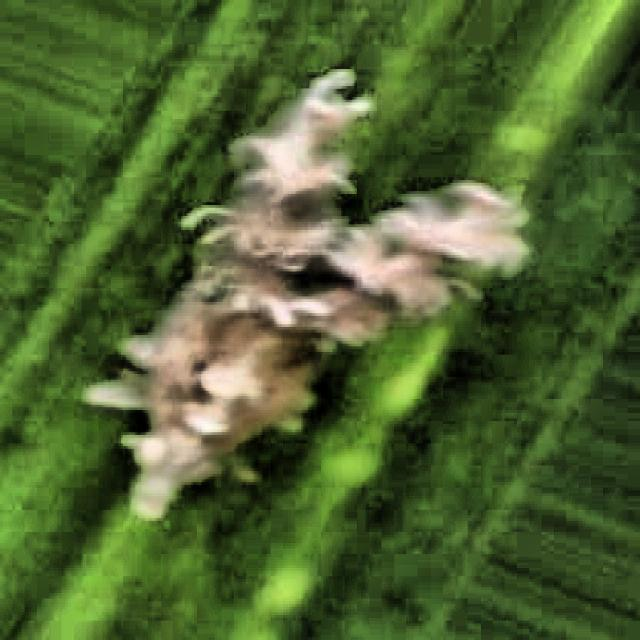Pyrilla-perpusilla: (44, 0, 543, 617)
